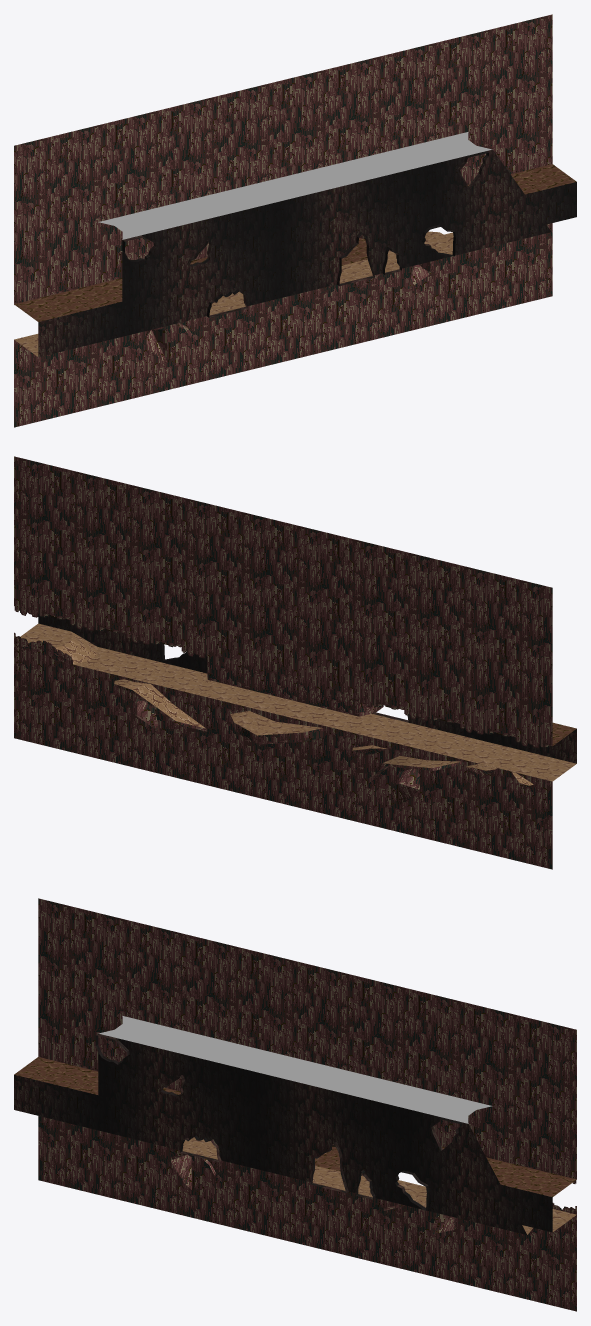
Rendered from Room5.fbx.
3 views of the same model, one above another, from view 1: azimuth 30°, elevation 25°; view 2: azimuth 150°, elevation 25°; view 3: azimuth 330°, elevation 25° (orthographic).
Parts seen in each view (by area): view 1: polySurface9; view 2: polySurface9; view 3: polySurface9.
Part boxes in pixels (x1,y1,x2,y2): polySurface9: (14,14,576,427); polySurface9: (14,456,576,869); polySurface9: (14,898,576,1311).
Bounding box in the file's own units: 64 × 32 × 8.69.
